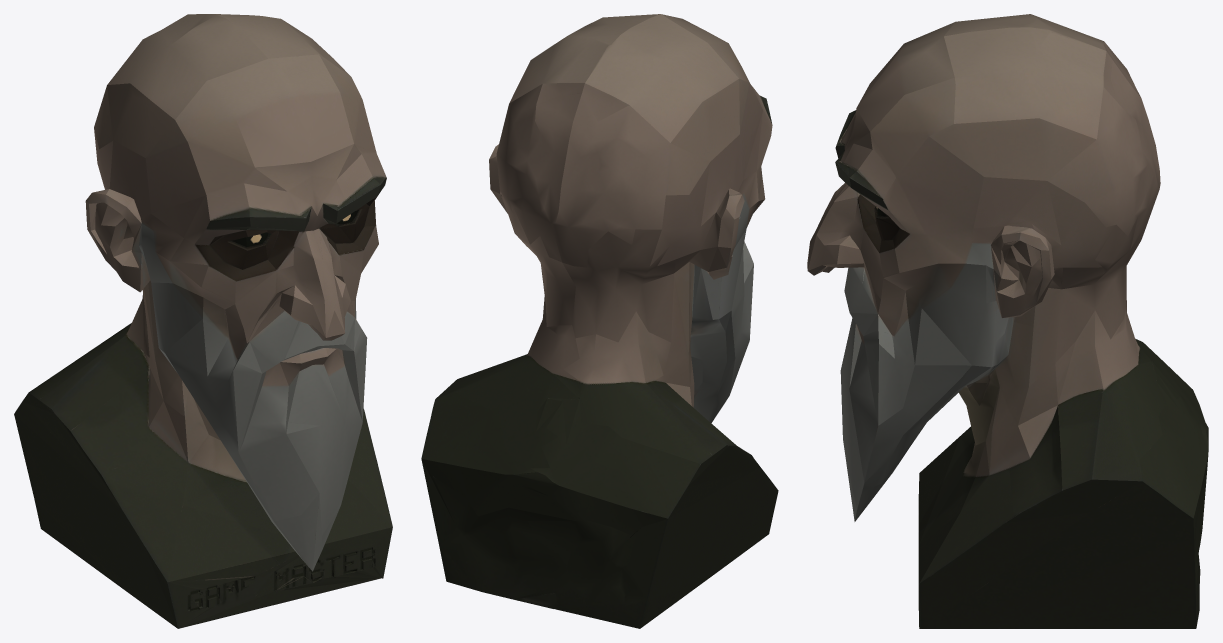
File: DMHeadA.glb
3 views of the same model, side by side, from view 1: azimuth 30°, elevation 25°; view 2: azimuth 150°, elevation 25°; view 3: azimuth 270°, elevation 25° (orthographic). The views are drawn at different scales.
Bounding box in the file's own units: 1.04 × 1.9 × 1.26.
Materials: 1 (1 with a texture image).
